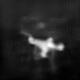plane: (22, 29, 66, 60)
